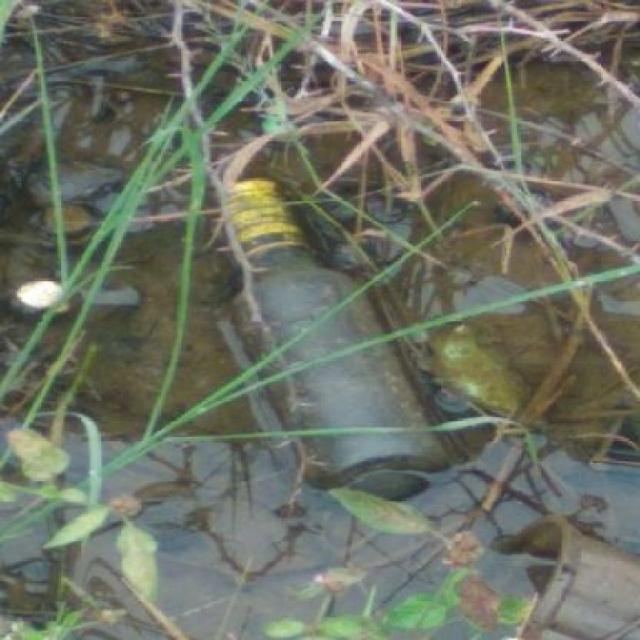garbage: (193, 171, 460, 514)
